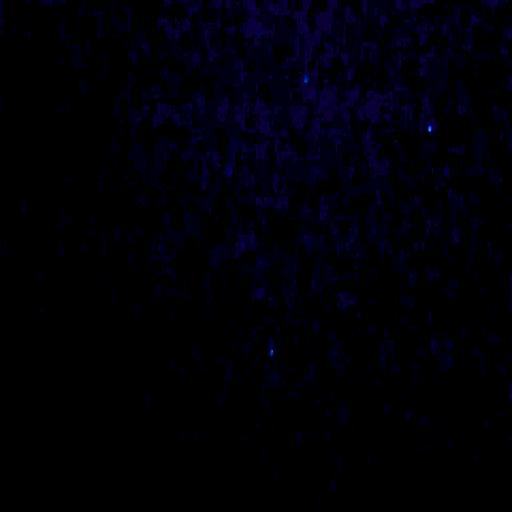object-detection-project: (269, 339, 275, 356), (303, 74, 308, 83), (428, 126, 431, 132)
